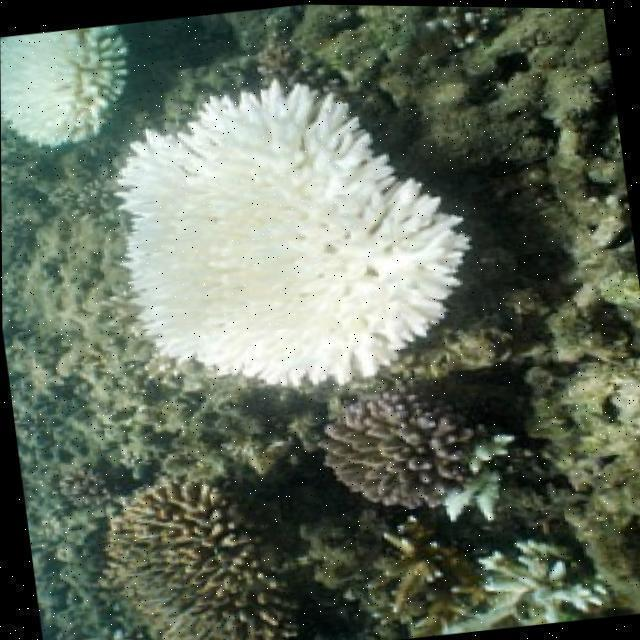Bleached Coral: (91, 55, 505, 419), (0, 19, 156, 164)
